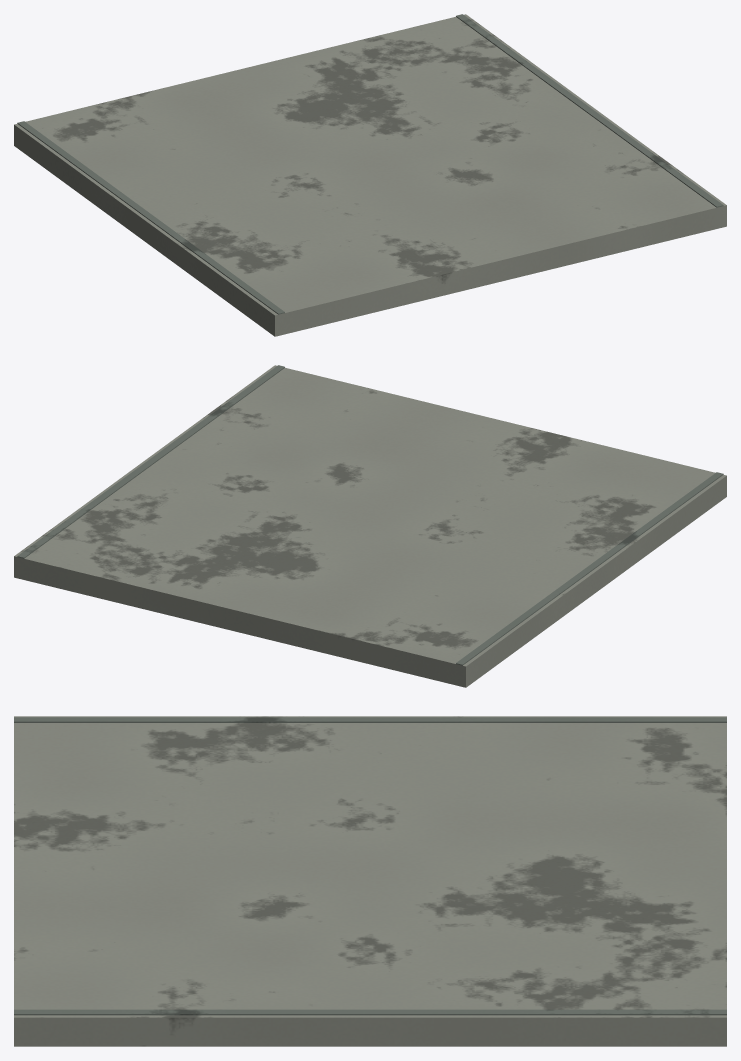
Rendered from floor_4m.glb.
The picture shows the model from 3 angles, top to bottom: view 1: azimuth 30°, elevation 25°; view 2: azimuth 150°, elevation 25°; view 3: azimuth 270°, elevation 25°; orthographic projection. The views are drawn at different scales.
Parts seen in each view (by area): view 1: floor_4m; view 2: floor_4m; view 3: floor_4m.
Part boxes in pixels (x1=…): floor_4m: x1=14, y1=14, x2=726, y2=336; floor_4m: x1=14, y1=365, x2=726, y2=687; floor_4m: x1=14, y1=716, x2=726, y2=1046.
Size of what is drawn, in the model's own units: 4 by 0.188 by 4.
1 material, 1 textured.
